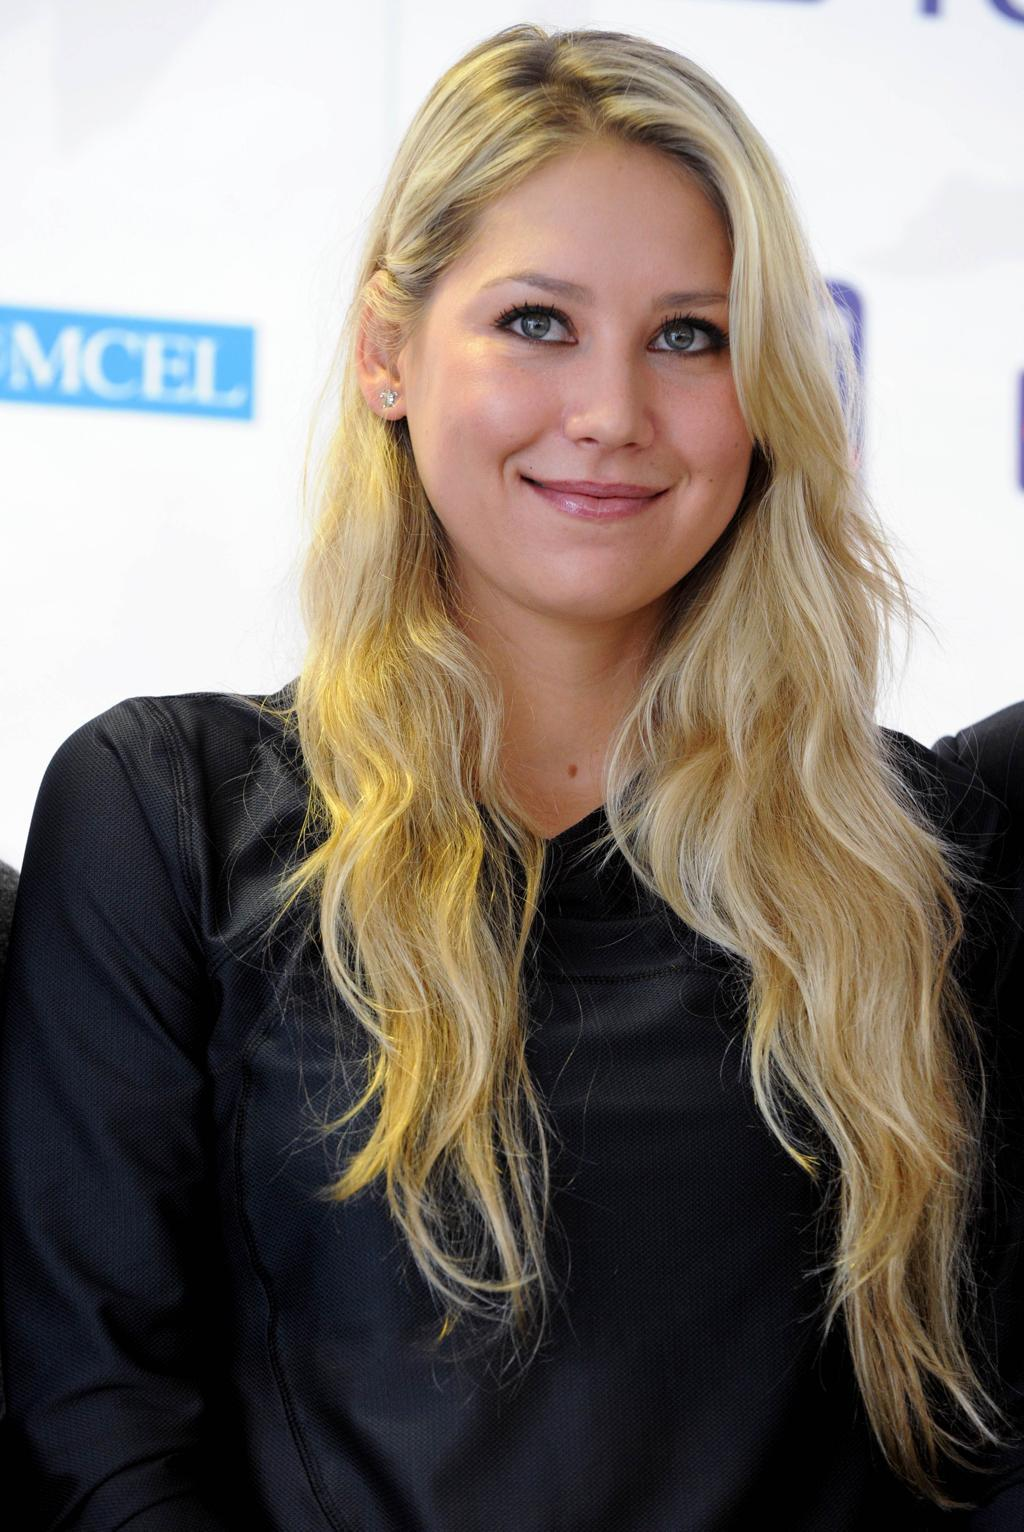face: (411, 157, 755, 615)
